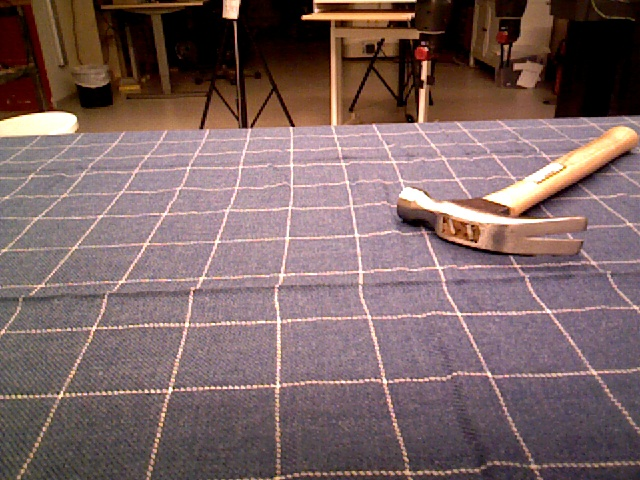hammer1: (396, 124, 640, 256)
